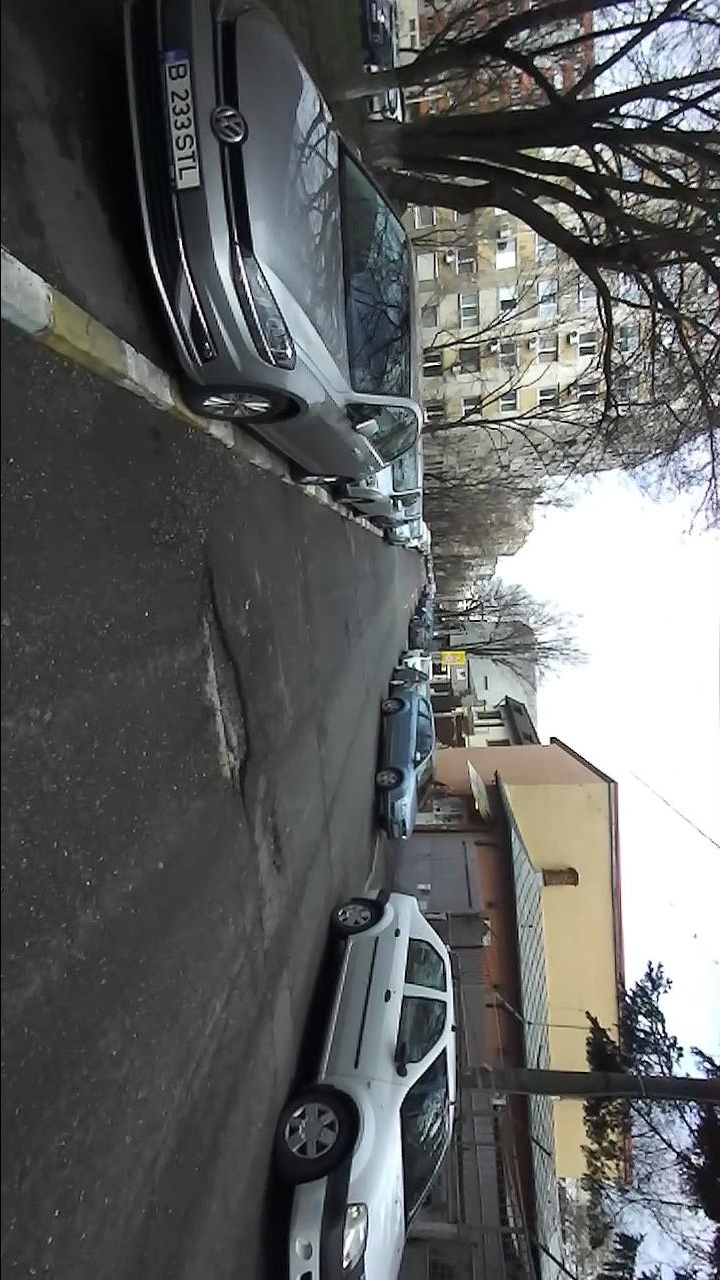pothole: (198, 561, 254, 828), (263, 800, 292, 881)
